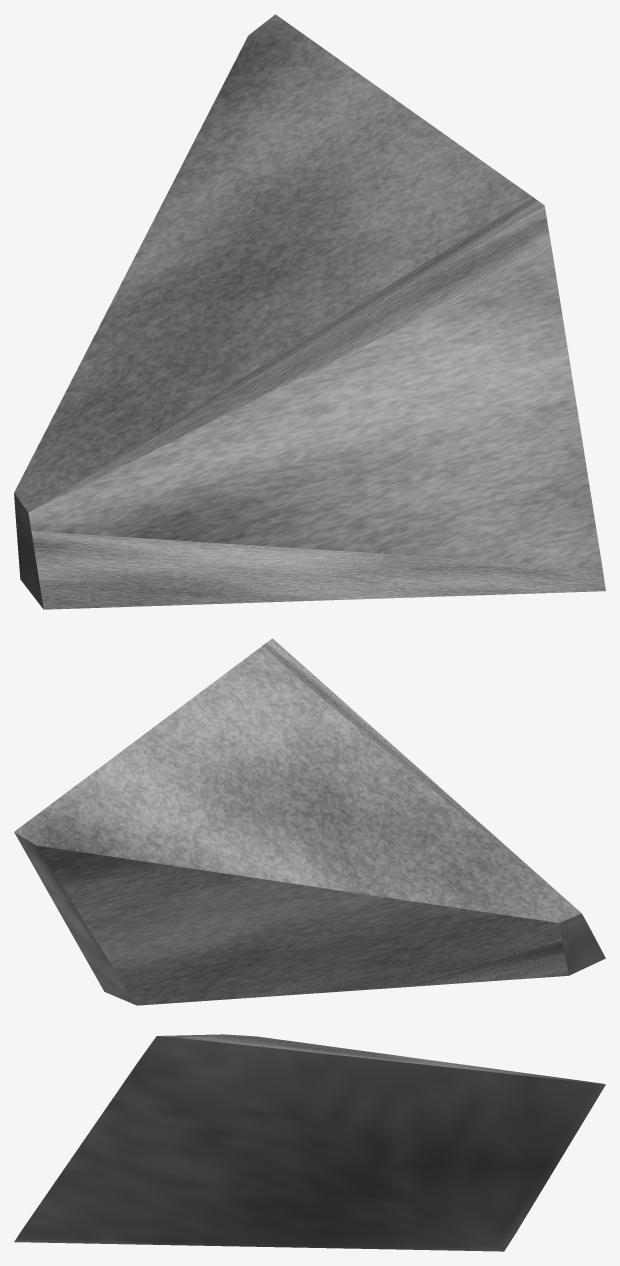
The model's file is leg_1_cell_006.fbx.
3 views of the same model, one above another, from view 1: azimuth 30°, elevation 25°; view 2: azimuth 150°, elevation 25°; view 3: azimuth 270°, elevation 25° (orthographic). The views are drawn at different scales.
Parts seen in each view (by area): view 1: leg_1_cell.006; view 2: leg_1_cell.006; view 3: leg_1_cell.006.
Part boxes in pixels (bbox=[...]): leg_1_cell.006: bbox=[14, 14, 605, 609]; leg_1_cell.006: bbox=[14, 638, 605, 1005]; leg_1_cell.006: bbox=[14, 1034, 605, 1251].
Size of the model in its own units: 21.63 by 12.08 by 29.54.
